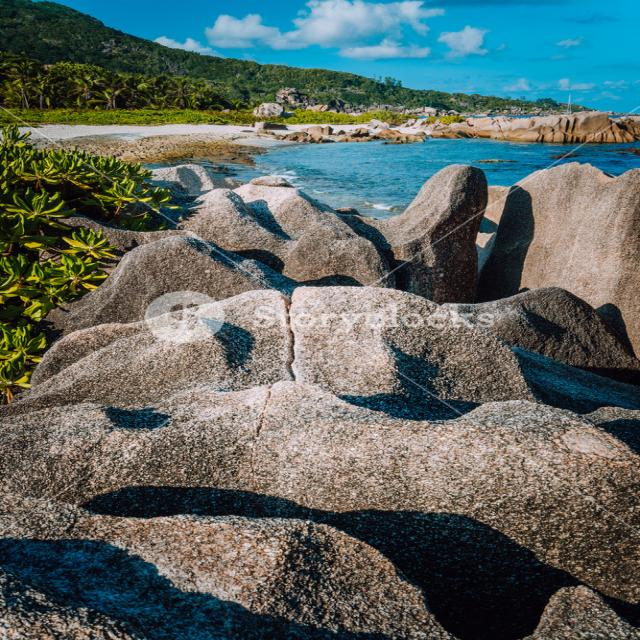Igneous: (11, 163, 640, 637)
